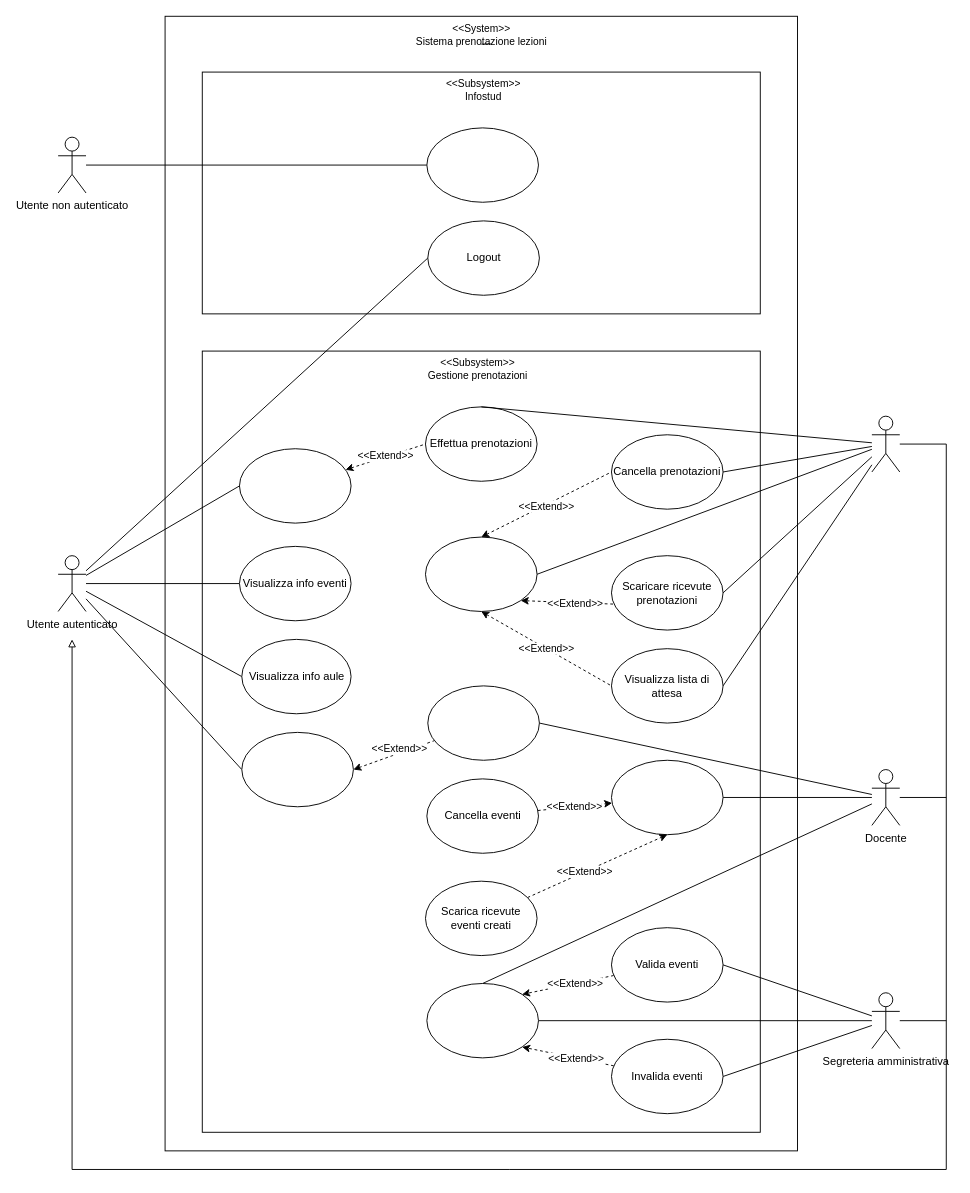
The diagram is 970 pixels wide and 1193 high, and some of its shapes have lost their labels. Each missing label, with the centre of its shape:
Accesso: the point at 482,164
Crea eventi: the point at 483,722
Ricerca aule: the point at 297,769
Ricerca eventi: the point at 295,485
Studente: the point at 885,443
Visualizza eventi creati: the point at 667,797
Visualizza lista generale di attesa: the point at 482,1020
Visualizza prentazioni effettuate: the point at 481,573
